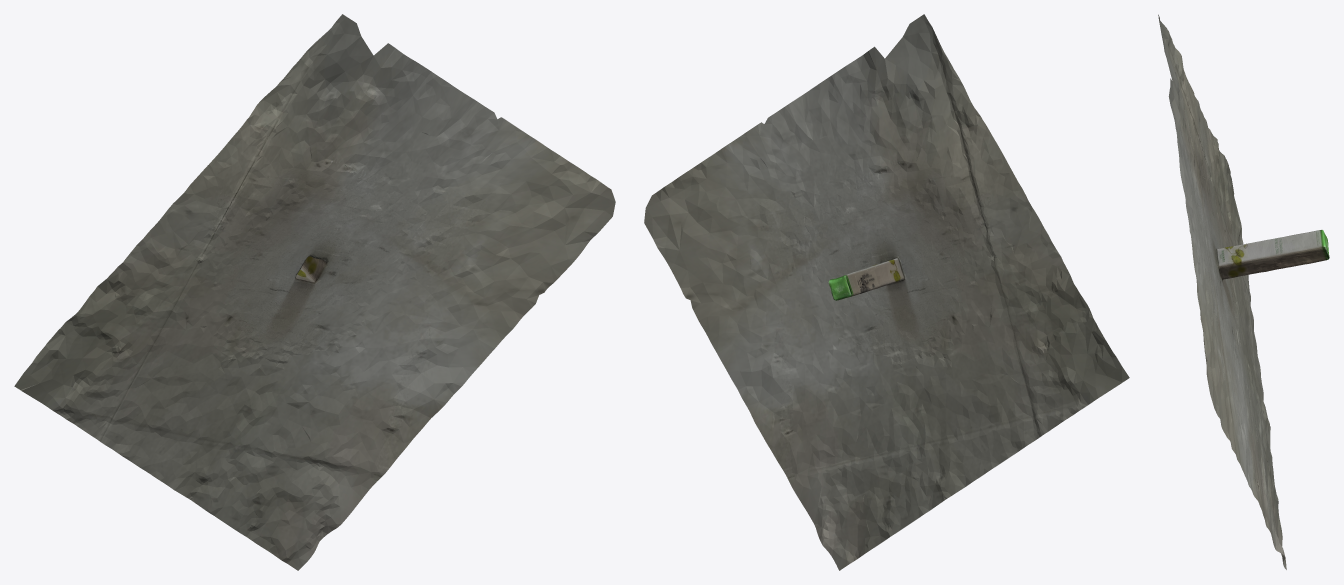
3 renders of one model, left to right at view 1: azimuth 30°, elevation 25°; view 2: azimuth 150°, elevation 25°; view 3: azimuth 270°, elevation 25°, orthographic. The views are drawn at different scales.
Size of the model in its own units: 43.88 by 43.93 by 12.51.
1 material, 1 textured.
